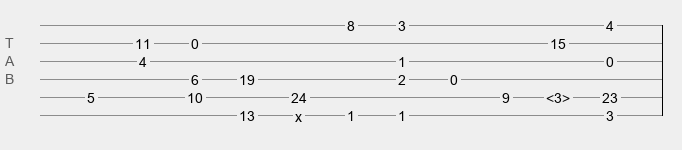0: (191, 36, 199, 46), (450, 72, 458, 82), (606, 54, 614, 64)
1: (347, 108, 355, 118), (398, 54, 406, 64), (398, 108, 406, 118)
10: (187, 90, 203, 100)
11: (135, 36, 151, 46)
13: (239, 108, 255, 118)
15: (550, 36, 566, 46)
19: (239, 72, 255, 82)
2: (398, 72, 406, 82)
23: (602, 90, 618, 100)
24: (291, 90, 307, 100)
3: (398, 18, 406, 28), (606, 108, 614, 118)
4: (139, 54, 147, 64), (606, 18, 614, 28)
5: (87, 90, 95, 100)
6: (191, 72, 199, 82)
8: (347, 18, 355, 28)
9: (502, 90, 510, 100)
harmonic: (546, 90, 570, 100)
x: (295, 109, 302, 117)
